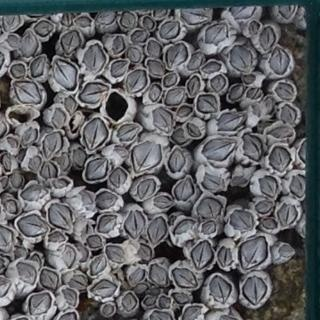Barnacle: (238, 236, 267, 271), (132, 141, 162, 173), (201, 137, 237, 162), (164, 88, 192, 118), (17, 253, 43, 285), (241, 274, 267, 305), (83, 119, 108, 151), (17, 214, 48, 239), (54, 59, 77, 91), (78, 83, 109, 106), (49, 202, 73, 231), (171, 123, 201, 146), (84, 43, 106, 74), (192, 239, 213, 270), (209, 276, 232, 304), (15, 81, 41, 105), (242, 133, 264, 161), (230, 45, 253, 71), (203, 22, 229, 45), (229, 210, 254, 233), (179, 7, 209, 26), (269, 146, 291, 171), (152, 108, 174, 133), (43, 133, 63, 160), (148, 216, 167, 244), (84, 158, 108, 180), (127, 69, 148, 94), (166, 42, 187, 67), (217, 113, 246, 131), (126, 210, 144, 238), (198, 198, 222, 219), (289, 175, 310, 199), (60, 31, 81, 55), (21, 29, 39, 57), (174, 268, 199, 288), (270, 48, 288, 75), (29, 293, 51, 315), (228, 2, 257, 18), (90, 281, 117, 298), (94, 191, 118, 210), (197, 93, 219, 113), (149, 263, 168, 286), (278, 203, 297, 226), (176, 178, 194, 202), (118, 123, 140, 142), (22, 185, 48, 201), (201, 172, 224, 190), (259, 177, 279, 197), (168, 149, 184, 174), (259, 26, 275, 51), (98, 214, 119, 233), (42, 270, 60, 292), (159, 21, 181, 39), (0, 225, 14, 253), (138, 179, 158, 198), (95, 10, 118, 26), (2, 11, 21, 30), (52, 107, 67, 131), (217, 245, 233, 267), (30, 56, 46, 78), (33, 21, 55, 37), (106, 245, 125, 263), (109, 168, 127, 187), (40, 162, 58, 181), (175, 219, 195, 236), (276, 82, 294, 100), (69, 274, 88, 291), (90, 255, 107, 274), (111, 59, 128, 78), (61, 288, 77, 307), (22, 128, 38, 147), (69, 113, 84, 133), (282, 105, 297, 125), (187, 74, 201, 95), (148, 59, 165, 76), (121, 294, 137, 312), (255, 199, 273, 215), (111, 37, 126, 56), (56, 153, 70, 173), (28, 152, 41, 173), (120, 11, 136, 28), (182, 306, 201, 320), (153, 196, 172, 210), (62, 244, 74, 266), (270, 125, 292, 137), (136, 244, 152, 260), (279, 1, 295, 17), (127, 47, 141, 65), (74, 149, 86, 169), (229, 85, 244, 101), (210, 76, 225, 92), (11, 63, 26, 79), (202, 62, 222, 74), (78, 191, 92, 208), (148, 40, 161, 58), (171, 292, 190, 304), (277, 245, 293, 259), (189, 53, 203, 69), (261, 218, 278, 231), (0, 154, 11, 174), (263, 95, 275, 113), (149, 84, 161, 102), (4, 200, 18, 215), (113, 145, 128, 159), (129, 267, 142, 283), (246, 87, 262, 100), (48, 232, 65, 244), (202, 222, 216, 236), (163, 73, 177, 87), (11, 173, 23, 189), (131, 31, 147, 43), (249, 21, 261, 37), (87, 235, 101, 248), (233, 174, 248, 186), (66, 95, 76, 113), (77, 246, 88, 261), (76, 17, 91, 28), (6, 35, 19, 47), (143, 17, 155, 30), (61, 12, 73, 25), (251, 103, 262, 117), (143, 297, 158, 307), (53, 178, 68, 188), (160, 296, 172, 308), (154, 6, 167, 17), (244, 73, 256, 84), (135, 284, 148, 294), (103, 304, 114, 315), (7, 138, 19, 148), (19, 148, 27, 162), (0, 177, 9, 188), (151, 287, 158, 295)
